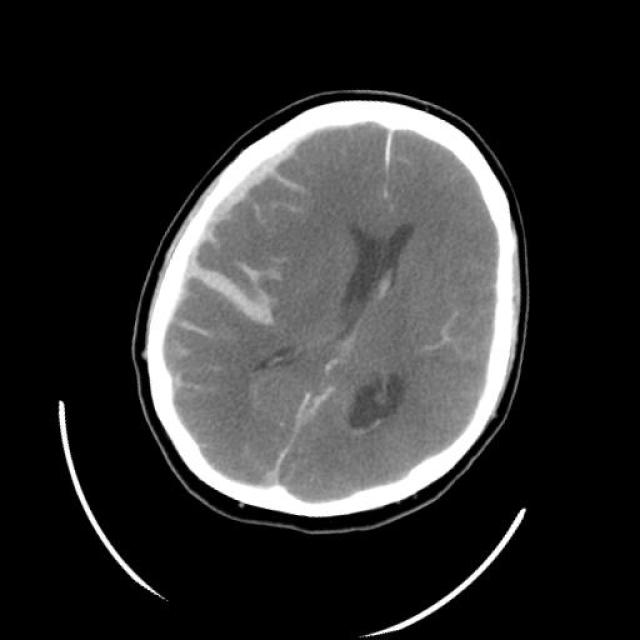Intraparenchymal: (161, 237, 289, 335)
Intraventricular: (334, 257, 406, 353)
Subarachnoid: (118, 279, 242, 433), (246, 367, 336, 502), (229, 160, 322, 261), (404, 301, 480, 377)
Subdural: (178, 81, 322, 268)
